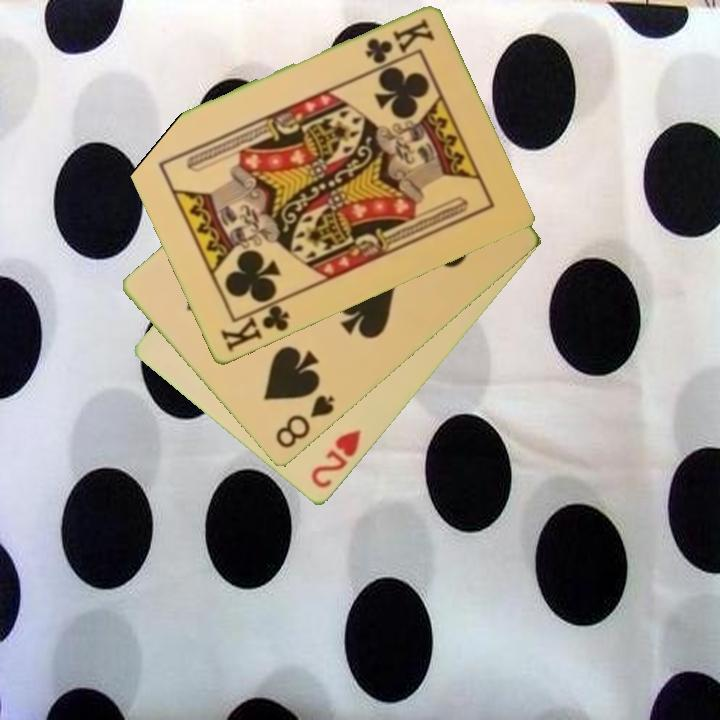2h: (307, 426, 364, 492)
8s: (272, 392, 338, 452)
Kc: (216, 296, 293, 355), (361, 15, 436, 67)
